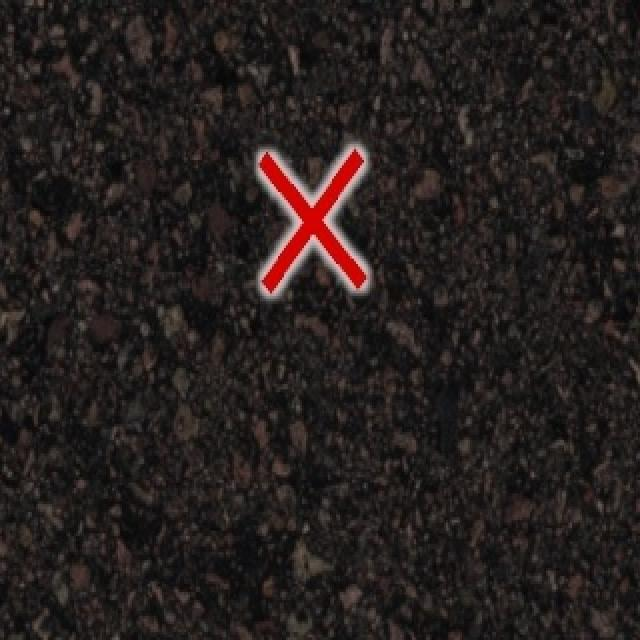x_marker: (259, 148, 365, 292)
